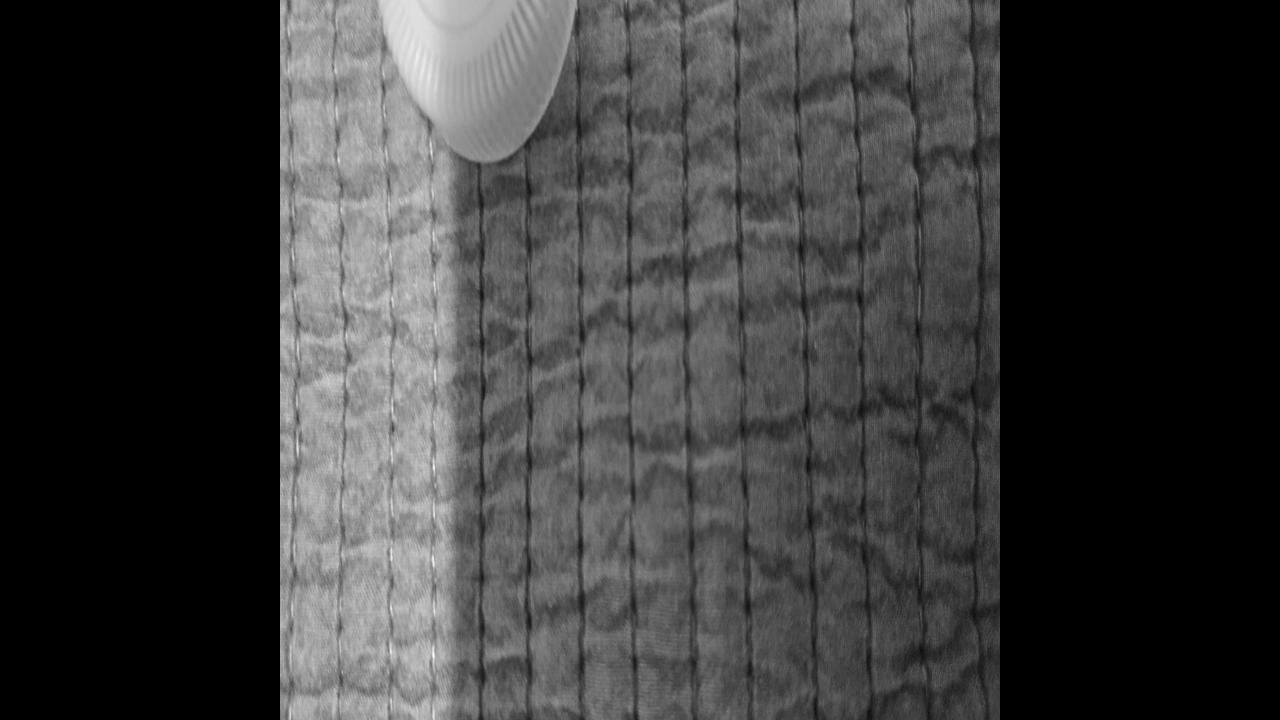bottle_cap: (375, 0, 577, 166)
